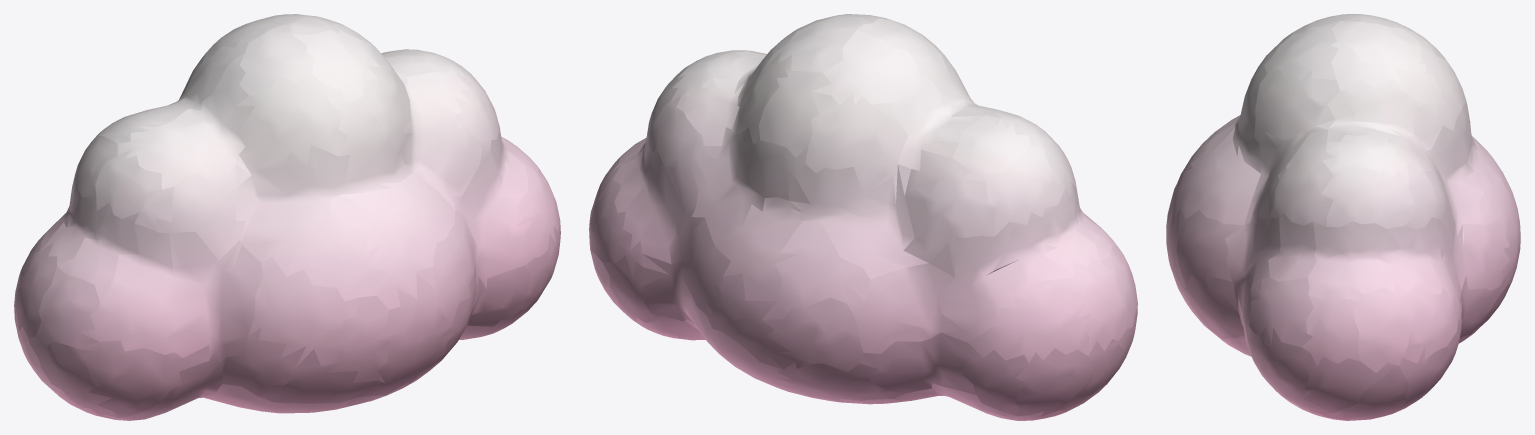
Rendered from cotton_cloud.glb.
The picture shows the model from 3 angles, left to right: view 1: azimuth 30°, elevation 25°; view 2: azimuth 150°, elevation 25°; view 3: azimuth 270°, elevation 25°; orthographic projection. The views are drawn at different scales.
Bounding box in the file's own units: 1.9 × 1.24 × 1.22.
Materials: 1 (1 with a texture image).
